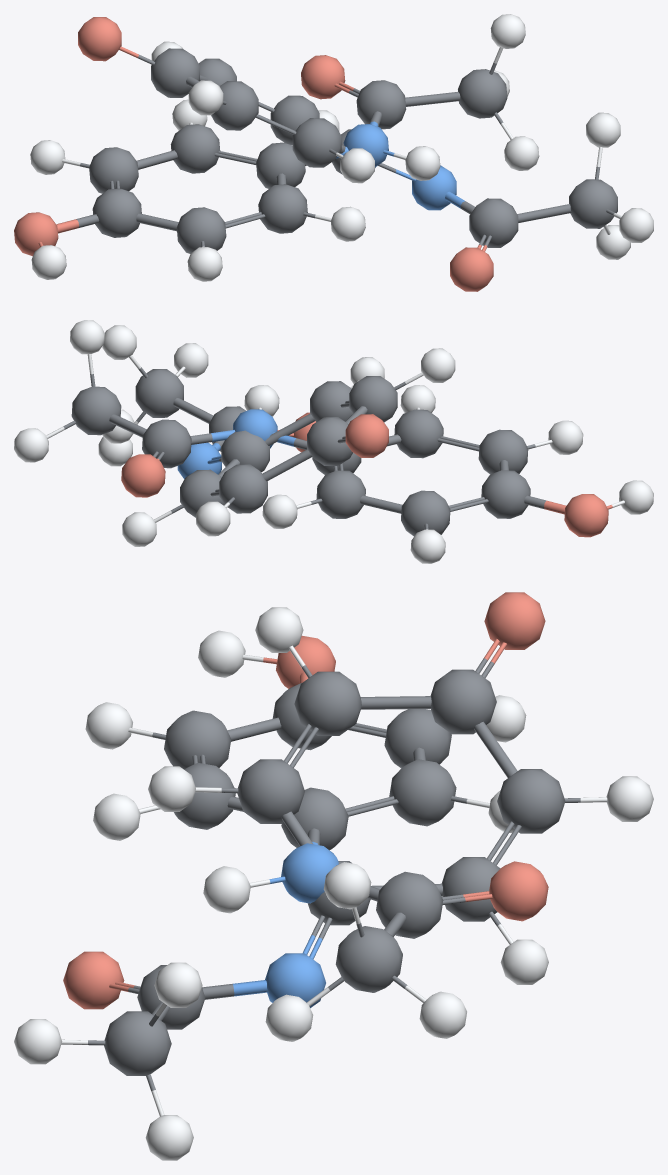
The model's file is acetaminophen.glb.
3 views of the same model, one above another, from view 1: azimuth 30°, elevation 25°; view 2: azimuth 150°, elevation 25°; view 3: azimuth 270°, elevation 25° (orthographic). The views are drawn at different scales.
Visible parts, largest first — view 1: node-geom38.001, node-geom41, node-geom42.001, node-geom37, node-geom38, node-geom46.001, node-geom44.001, node-geom43, node-geom39.001, node-geom45.001, node-geom43.001, node-geom42 (+26 smaller); view 2: node-geom44, node-geom46.001, node-geom42.001, node-geom44.001, node-geom38.001, node-geom37, node-geom39.001, node-geom45.001, node-geom43.001, node-geom43, node-geom42, node-geom48.001 (+30 smaller); view 3: node-geom44, node-geom37, node-geom42, node-geom41, node-geom43, node-geom38.001, node-geom46.001, node-geom39.001, node-geom43.001, node-geom45.001, node-geom48.001, node-geom46 (+26 smaller).
Part boxes in pixels (left/top/right/bottom): node-geom38.001: left=458, top=69, right=507, bottom=118; node-geom41: left=292, top=118, right=341, bottom=167; node-geom42.001: left=258, top=184, right=307, bottom=233; node-geom37: left=569, top=179, right=617, bottom=228; node-geom38: left=469, top=198, right=518, bottom=247; node-geom46.001: left=170, top=124, right=220, bottom=173; node-geom44.001: left=92, top=188, right=141, bottom=237; node-geom43: left=151, top=48, right=199, bottom=97; node-geom39.001: left=356, top=80, right=406, bottom=129; node-geom45.001: left=89, top=147, right=138, bottom=193; node-geom43.001: left=176, top=207, right=226, bottom=253; node-geom42: left=211, top=81, right=258, bottom=130; node-geom44: left=219, top=464, right=267, bottom=513; node-geom46.001: left=316, top=470, right=365, bottom=518; node-geom42.001: left=394, top=409, right=443, bottom=458; node-geom44.001: left=481, top=470, right=530, bottom=518; node-geom38.001: left=71, top=386, right=121, bottom=435; node-geom37: left=135, top=369, right=183, bottom=417; node-geom39.001: left=142, top=419, right=191, bottom=468; node-geom45.001: left=401, top=490, right=450, bottom=536; node-geom43.001: left=478, top=429, right=528, bottom=474; node-geom43: left=307, top=417, right=352, bottom=465; node-geom42: left=349, top=376, right=397, bottom=422; node-geom48.001: left=121, top=454, right=165, bottom=497; node-geom44: left=497, top=769, right=565, bottom=833; node-geom37: left=104, top=1011, right=171, bottom=1075; node-geom42: left=294, top=671, right=361, bottom=735; node-geom41: left=237, top=759, right=304, bottom=823; node-geom43: left=430, top=669, right=496, bottom=734; node-geom38.001: left=335, top=926, right=402, bottom=992; node-geom46.001: left=389, top=759, right=456, bottom=826; node-geom39.001: left=376, top=871, right=443, bottom=938; node-geom43.001: left=164, top=710, right=231, bottom=769; node-geom45.001: left=384, top=709, right=451, bottom=768; node-geom48.001: left=489, top=861, right=548, bottom=921; node-geom46: left=484, top=592, right=545, bottom=649.
Bounding box in the file's own units: 9.65 × 3.83 × 7.
